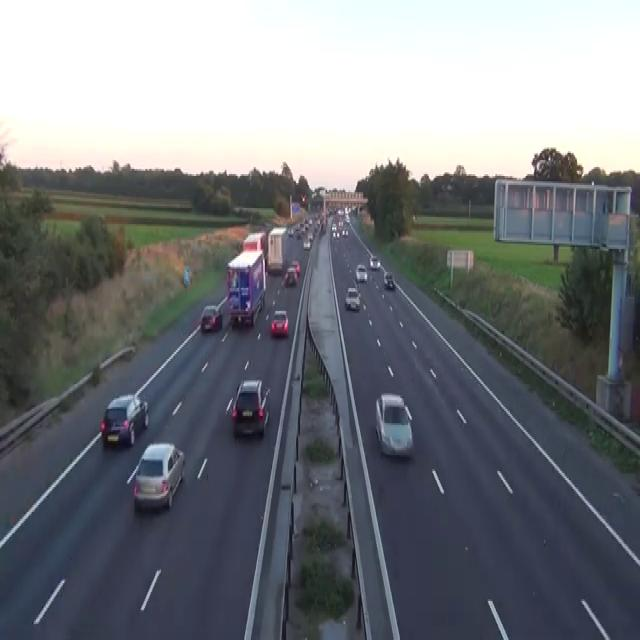Car: (133, 441, 185, 512), (100, 393, 148, 446), (374, 393, 413, 457), (231, 379, 270, 437), (287, 213, 321, 251), (200, 304, 222, 331), (270, 309, 288, 336), (344, 286, 360, 311), (282, 267, 297, 286), (355, 263, 367, 283), (383, 272, 394, 288), (369, 254, 380, 270), (183, 267, 191, 286), (291, 260, 300, 276), (294, 222, 301, 233), (303, 240, 310, 249), (287, 226, 293, 236), (341, 228, 348, 236), (332, 230, 339, 238), (321, 222, 326, 233), (307, 231, 313, 240), (337, 208, 344, 215), (331, 222, 336, 231), (295, 231, 301, 238), (301, 194, 306, 202), (344, 215, 349, 222)
Truck: (225, 247, 266, 327), (242, 231, 267, 272), (266, 226, 287, 274)
